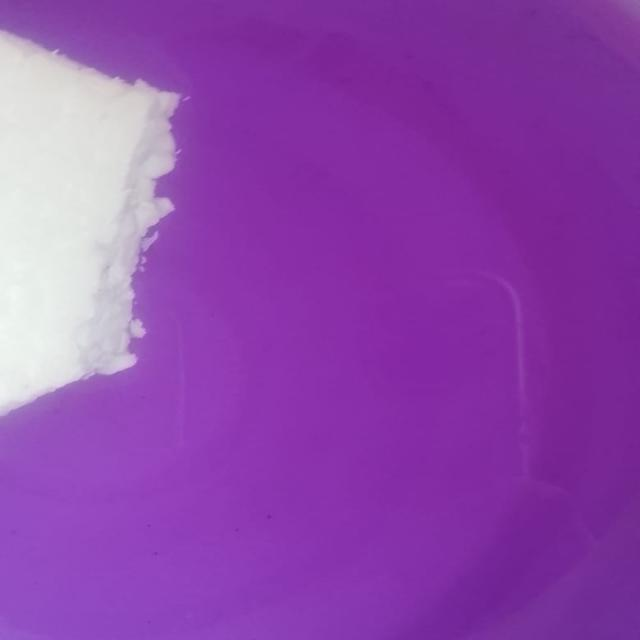thermocoal: (0, 0, 198, 432)
